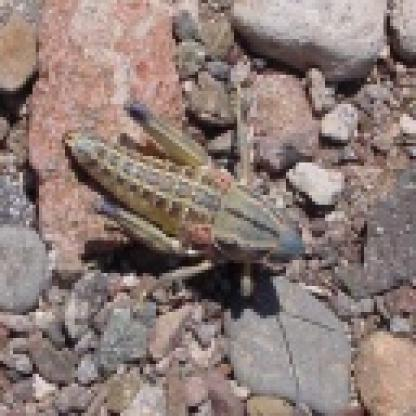grasshopper: (77, 96, 316, 290)
